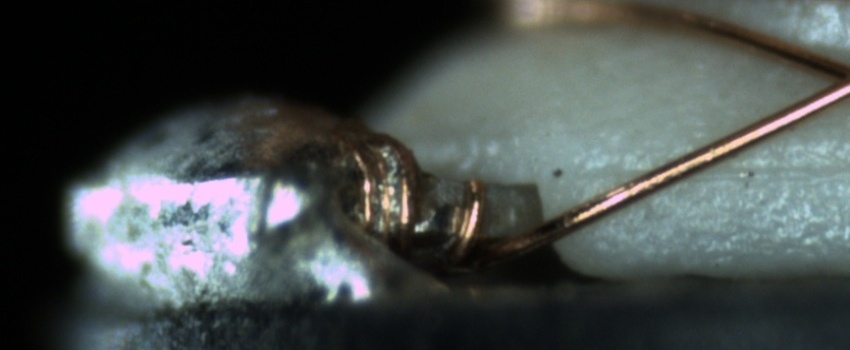CL: (803, 44, 850, 108)
DL: (596, 136, 849, 201)
TE: (338, 125, 488, 272)
